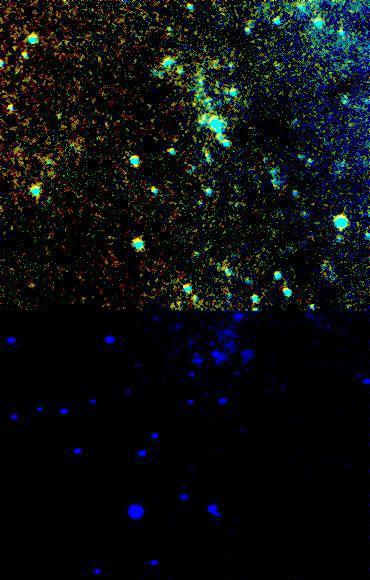star: (0, 32, 29, 62)
